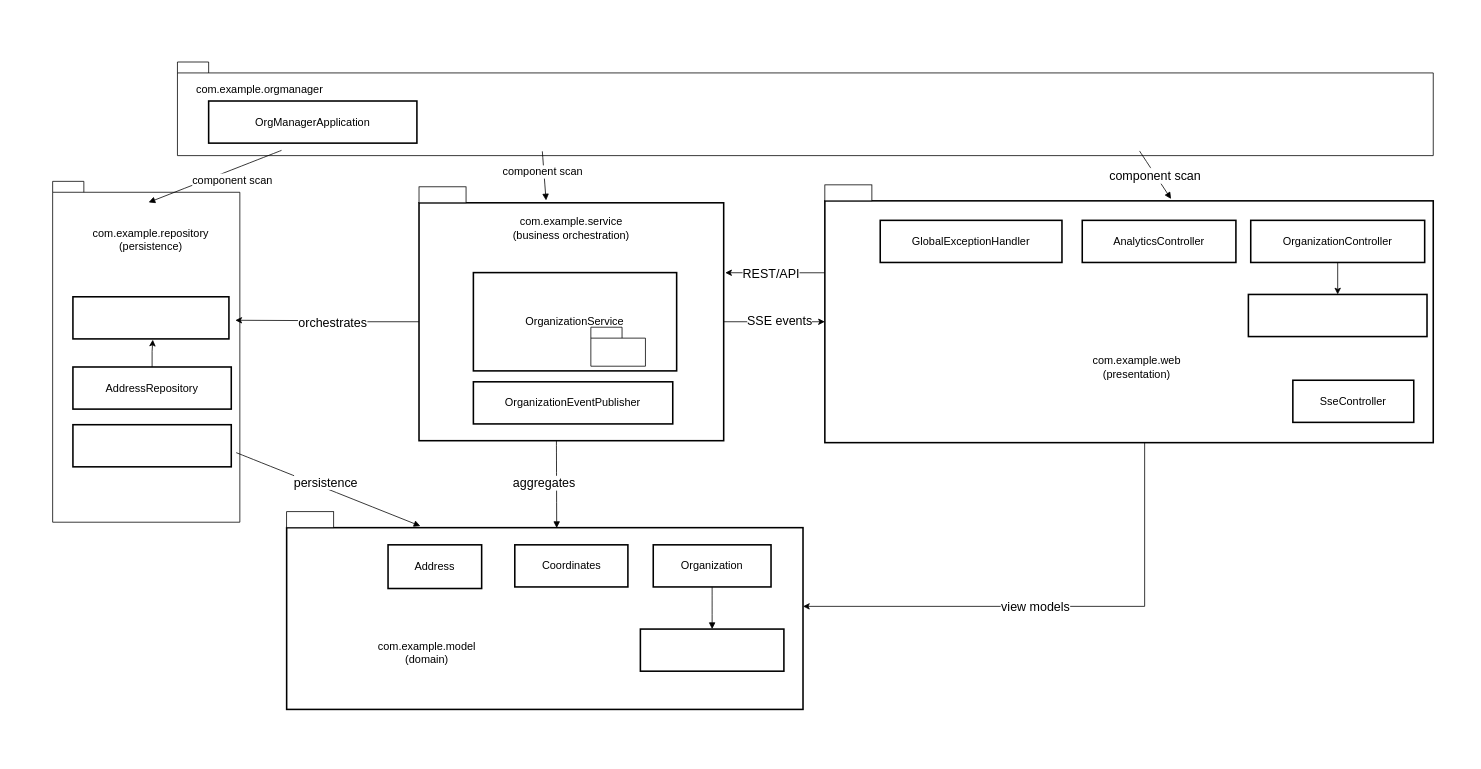
This 1481x769 diagram has some shape labels left out. Each missing label, with the centre of its shape:
CoordinatesRepository: (152,445)
OrganizationForm: (1337,315)
OrganizationRepository: (150,317)
OrganizationType: (711,650)
package: (617,346)
